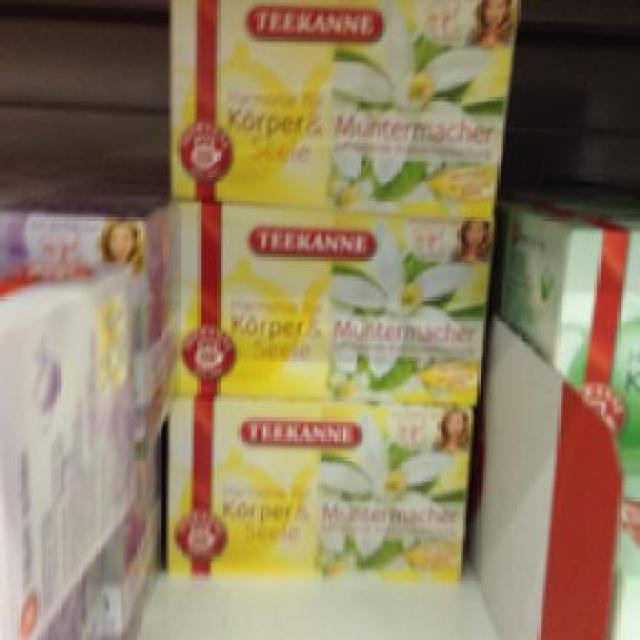Tea: (168, 0, 518, 203), (157, 197, 492, 403), (159, 400, 475, 577)
